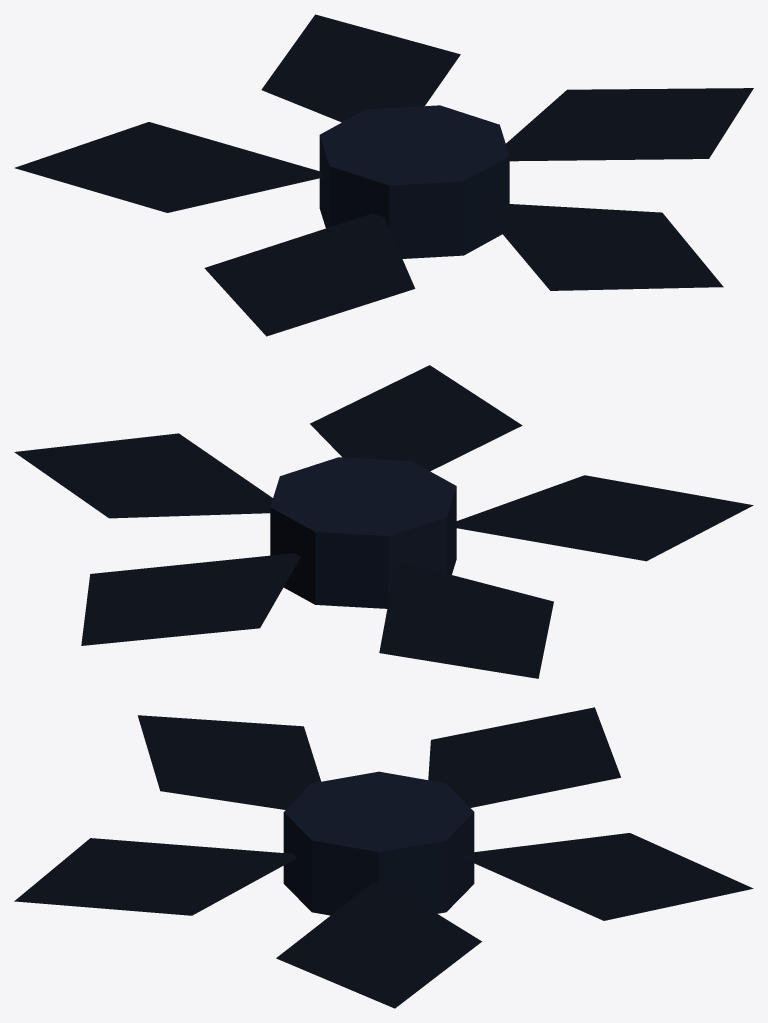
Rendered from RackFan.fbx.
3 views of the same model, one above another, from view 1: azimuth 30°, elevation 25°; view 2: azimuth 150°, elevation 25°; view 3: azimuth 270°, elevation 25° (orthographic). The views are drawn at different scales.
Parts seen in each view (by area): view 1: KIT_RackFan_Fan; view 2: KIT_RackFan_Fan; view 3: KIT_RackFan_Fan.
Part boxes in pixels (x1,y1,x2,y2): KIT_RackFan_Fan: (15,14,753,336); KIT_RackFan_Fan: (14,365,753,678); KIT_RackFan_Fan: (14,707,753,1008).
Bounding box in the file's own units: 0.8982 × 0.1 × 0.932.
